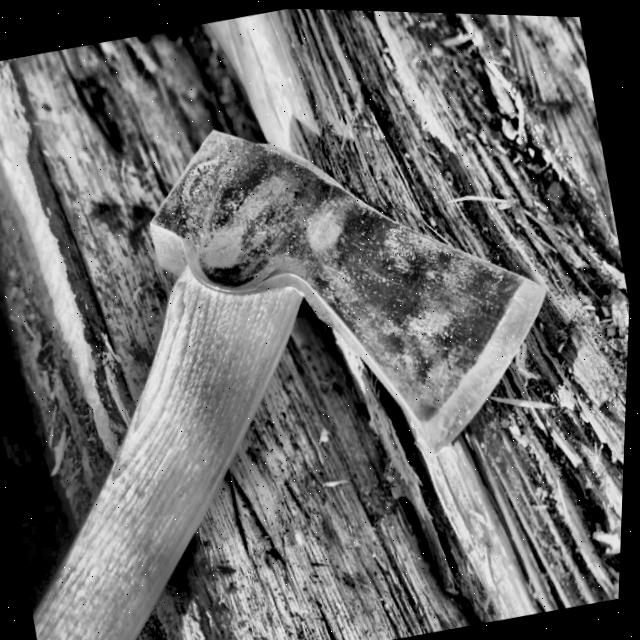kapak: (32, 121, 557, 640)
